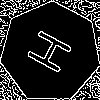H: (25, 27, 82, 81)
